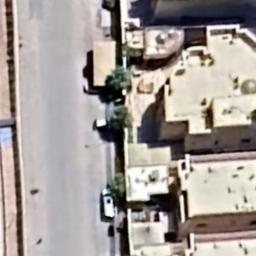SUV: (97, 187, 120, 225)
